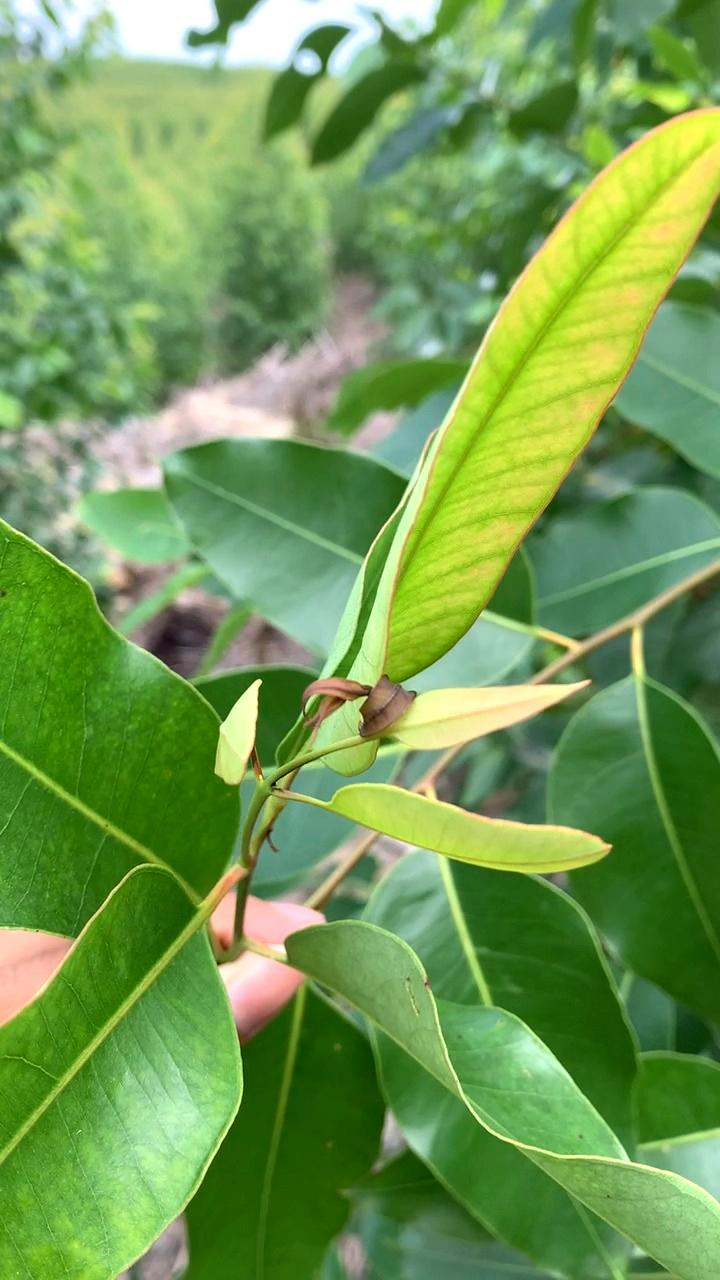Helopeltis-Withered Sprout: (296, 646, 431, 761)
